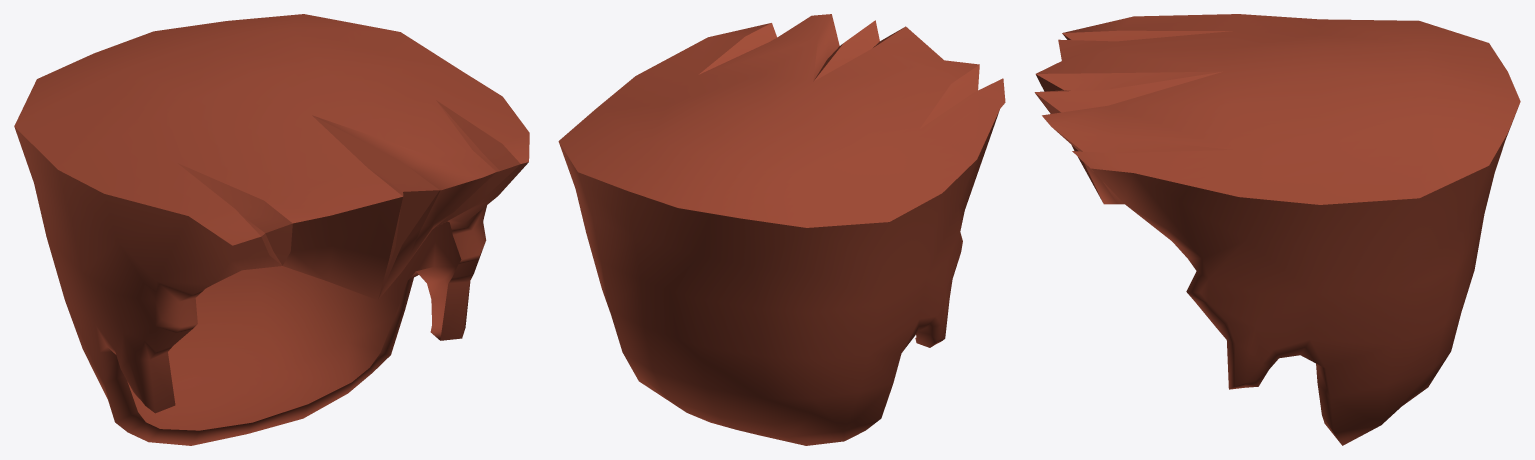
The model's file is Hair_Brown_4.fbx.
3 renders of one model, left to right at view 1: azimuth 30°, elevation 25°; view 2: azimuth 150°, elevation 25°; view 3: azimuth 270°, elevation 25°, orthographic. The views are drawn at different scales.
Parts seen in each view (by area): view 1: Hair_Brown_4; view 2: Hair_Brown_4; view 3: Hair_Brown_4.
Part boxes in pixels (x1=…): Hair_Brown_4: x1=14, y1=14, x2=529, y2=445; Hair_Brown_4: x1=558, y1=14, x2=1005, y2=445; Hair_Brown_4: x1=1034, y1=14, x2=1520, y2=445.
Bounding box in the file's own units: 62.29 × 53.97 × 68.97.
